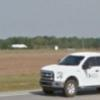cars: (40, 53, 100, 97)
